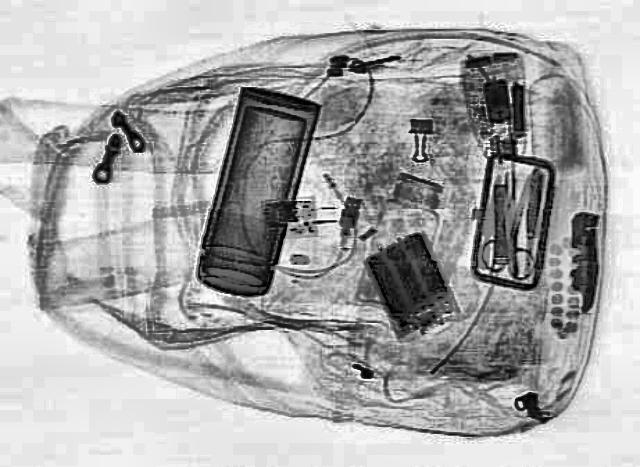Scissors: (476, 179, 542, 279)
